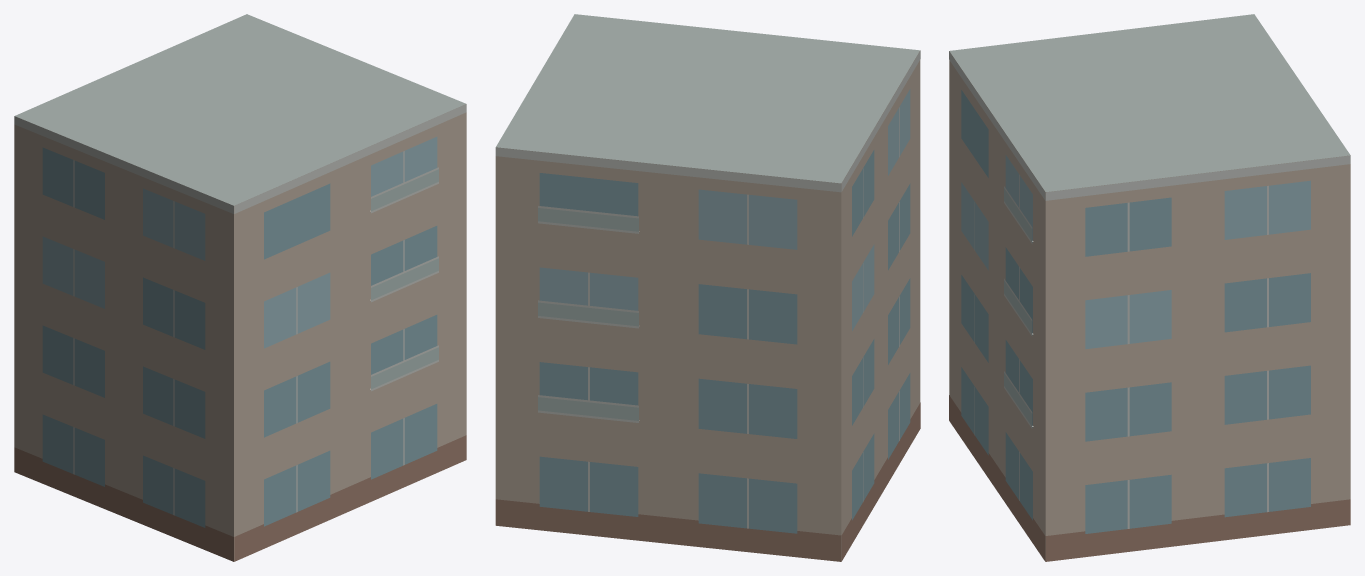
The model's file is survey-upis-32743051.glb.
The picture shows the model from 3 angles, left to right: view 1: azimuth 30°, elevation 25°; view 2: azimuth 150°, elevation 25°; view 3: azimuth 270°, elevation 25°; orthographic projection. The views are drawn at different scales.
Visible parts, largest first — view 1: survey-upis-32743051.tmp; view 2: survey-upis-32743051.tmp; view 3: survey-upis-32743051.tmp.
Part boxes in pixels (x1,y1,x2,y2): survey-upis-32743051.tmp: [14, 14, 466, 561]; survey-upis-32743051.tmp: [495, 14, 920, 561]; survey-upis-32743051.tmp: [949, 14, 1350, 561].
Size of the model in its own units: 10.71 by 10.35 by 10.2.
